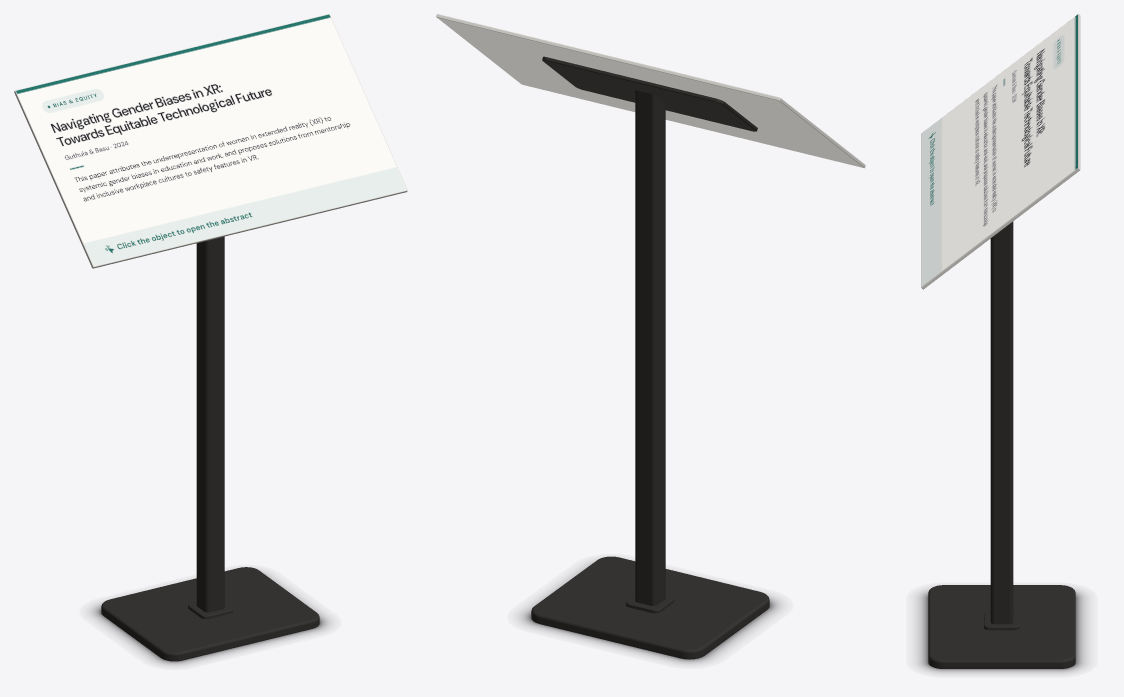
File: plaque-guthula-2024-stand.glb
3 renders of one model, left to right at view 1: azimuth 30°, elevation 25°; view 2: azimuth 150°, elevation 25°; view 3: azimuth 270°, elevation 25°, orthographic. The views are drawn at different scales.
Parts seen in each view (by area): view 1: board, stand; view 2: stand, board; view 3: board, stand.
Boxes of the visible parts, <box> form: board: <box>14,14,407,268</box>; stand: <box>91,236,329,664</box>; stand: <box>520,56,779,663</box>; board: <box>436,14,865,168</box>; board: <box>921,14,1080,289</box>; stand: <box>918,221,1085,672</box>.
Size of the model in its own units: 0.643 by 1.05 by 0.38.
Materials: 4 (2 with a texture image).
